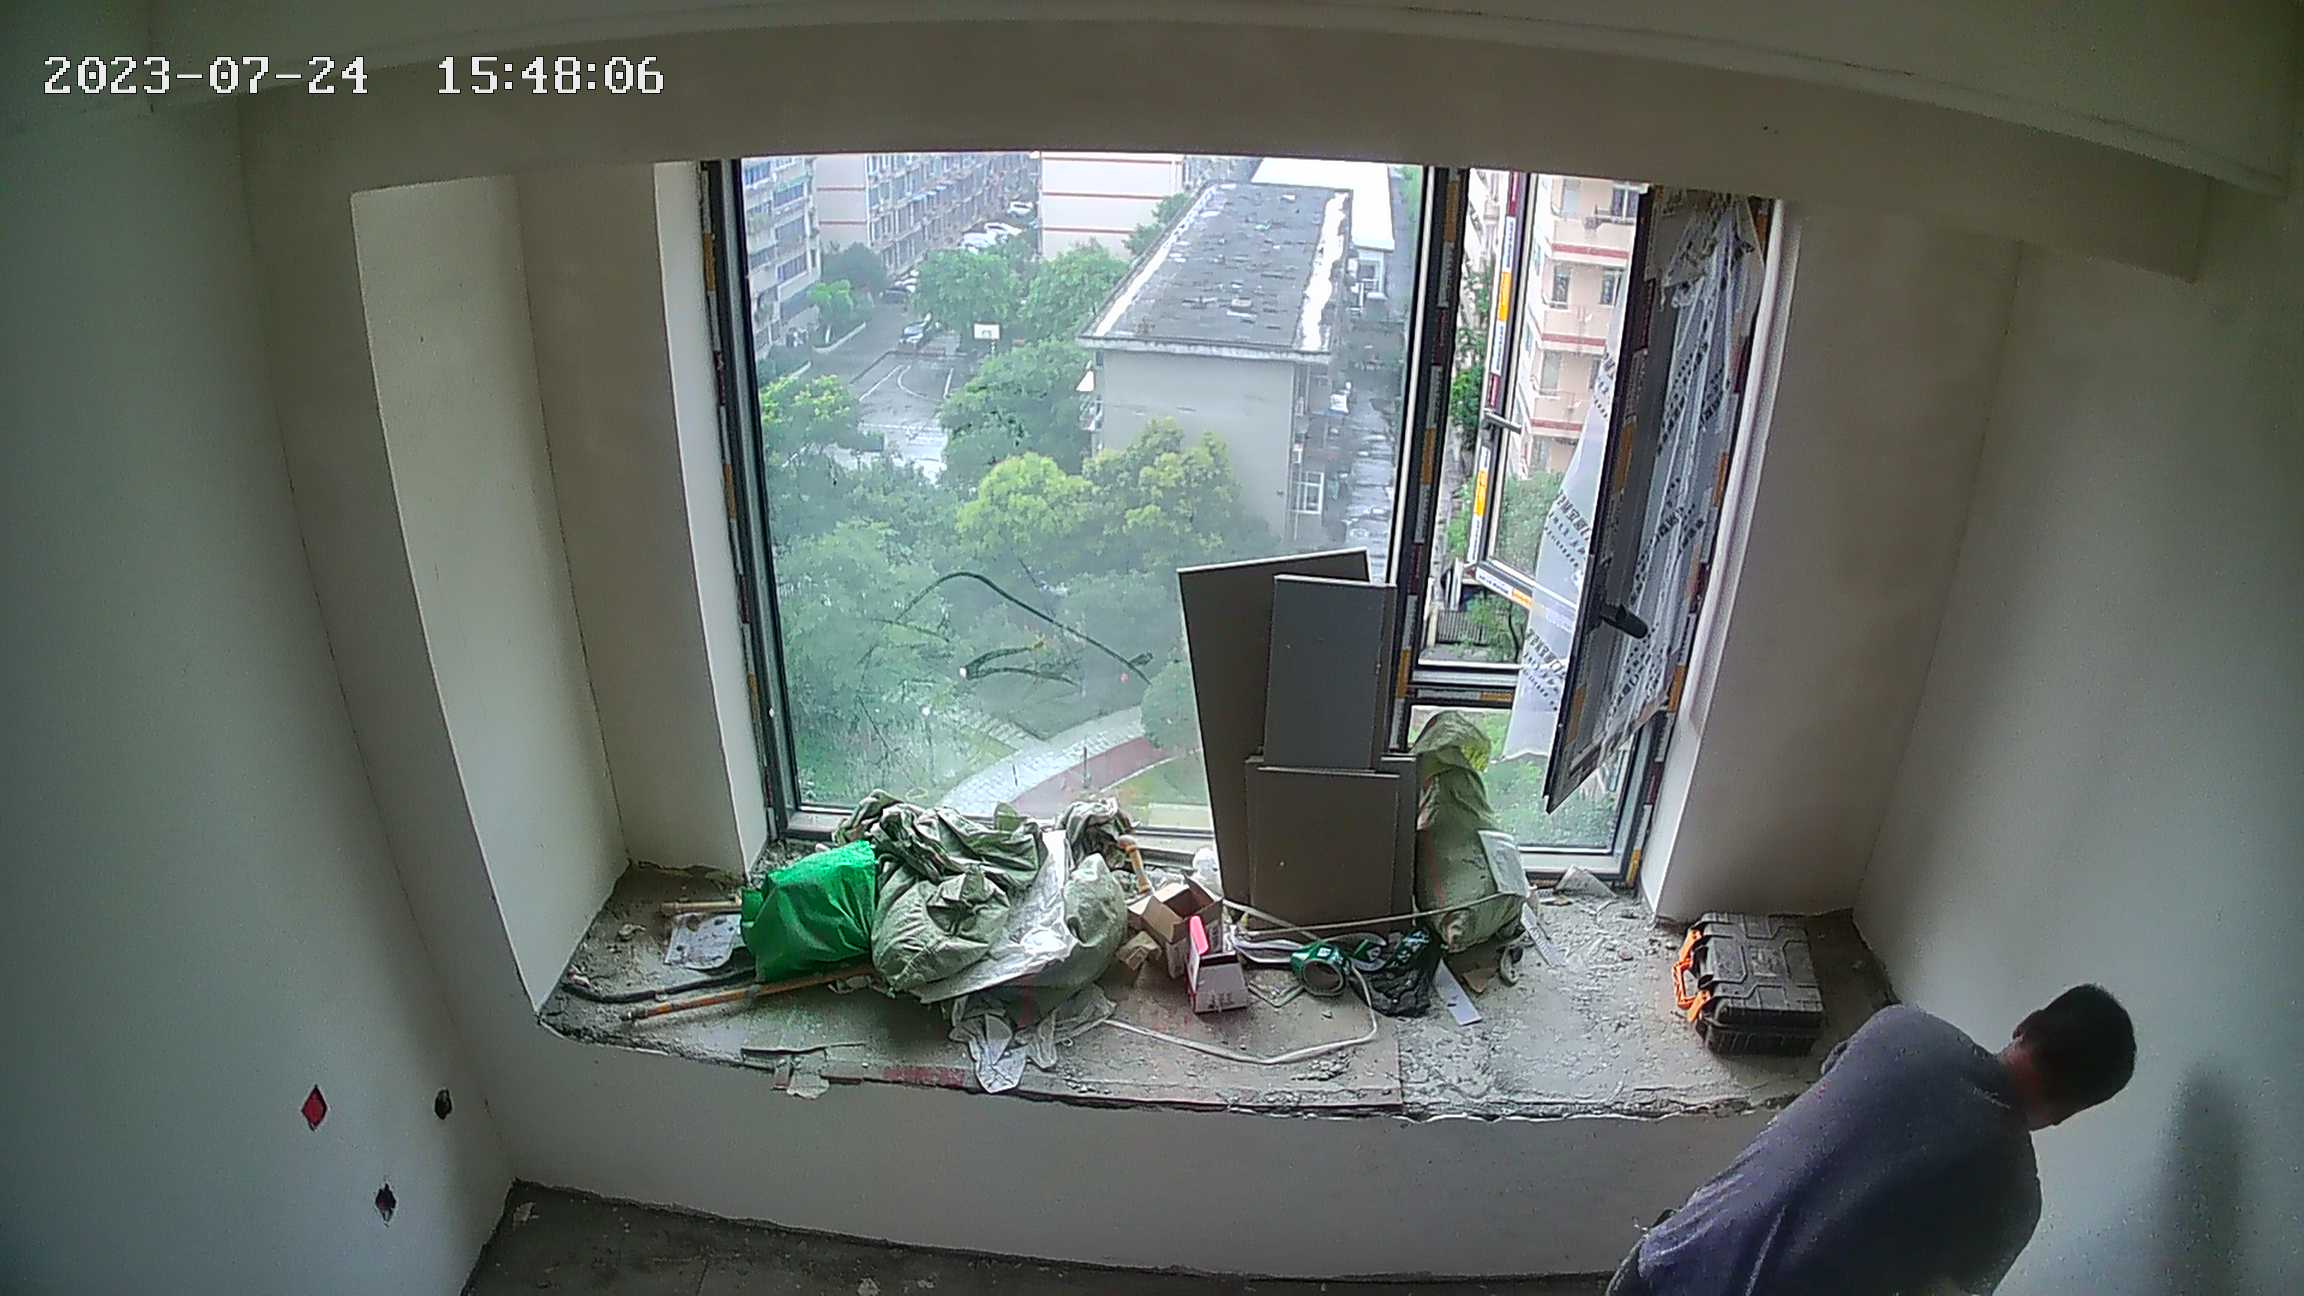people: (1607, 973, 2135, 1296)
window: (735, 164, 1650, 859)
